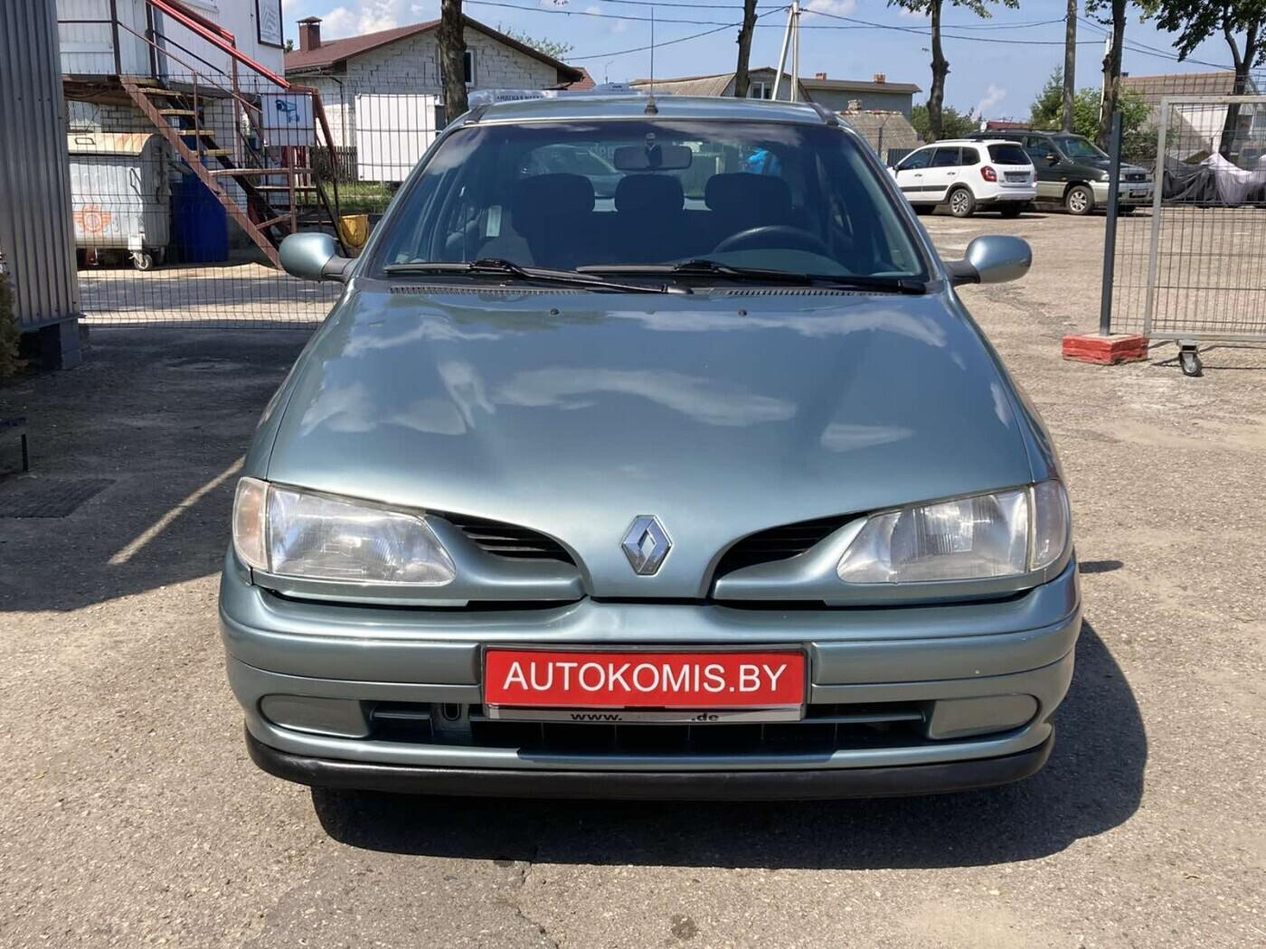Megane_1995-1999: (213, 80, 1105, 816)
